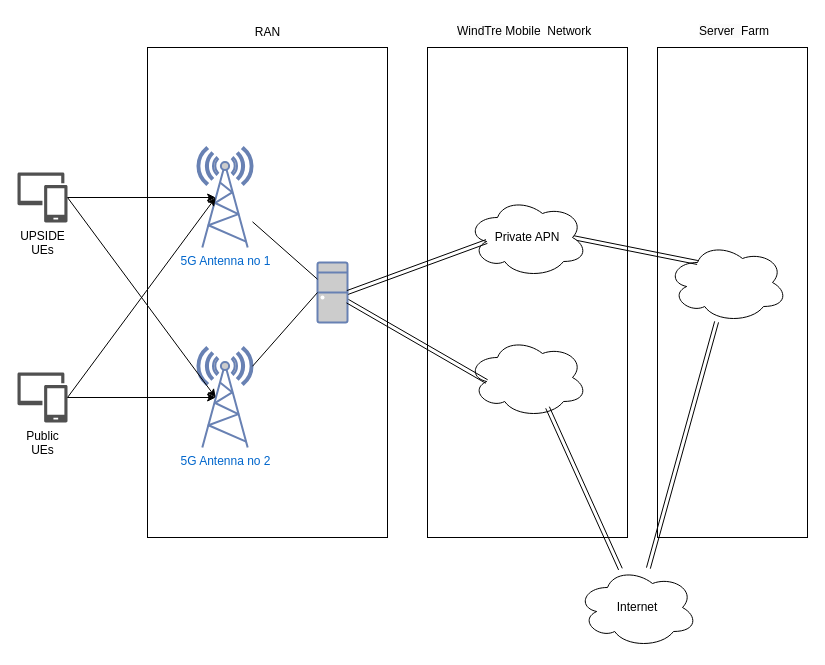
Some shapes in this 825 by 665 pixel diagram are drawn without their labels. Here are the shapes that lost their labels. From the top down, the centre of each, then its label:
point 727,282: Server Farm Network
point 527,377: Public serving network
